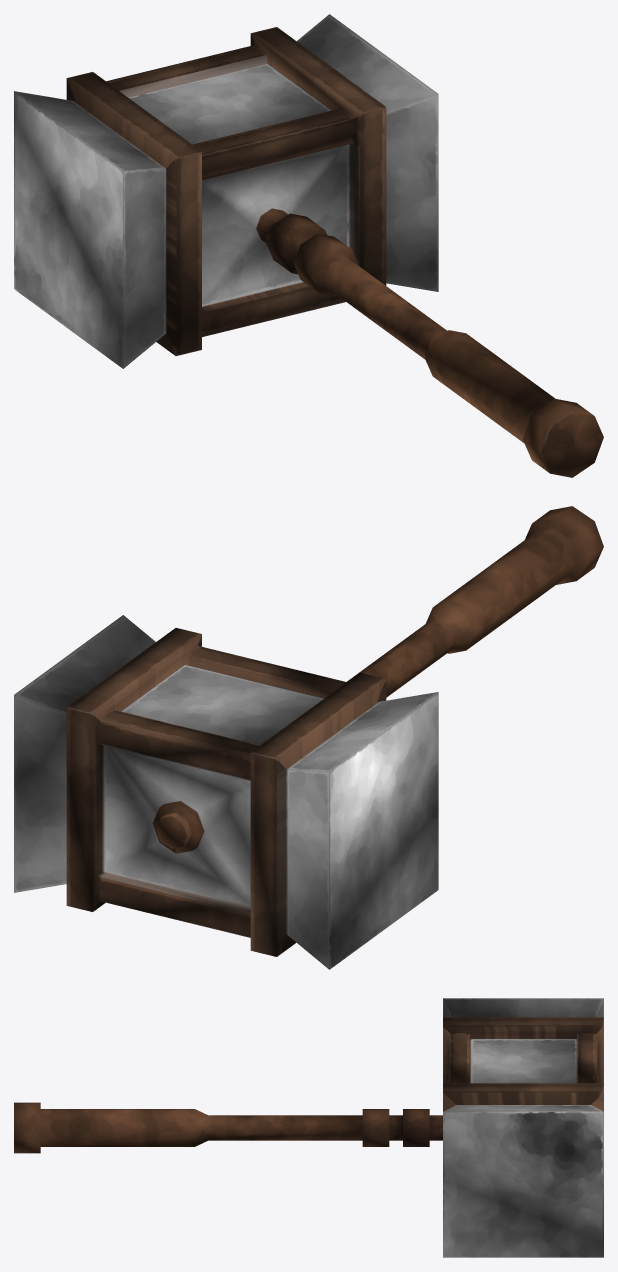
The model's file is Hammer.obj.
3 views of the same model, one above another, from view 1: azimuth 30°, elevation 25°; view 2: azimuth 150°, elevation 25°; view 3: azimuth 270°, elevation 25° (orthographic). The views are drawn at different scales.
Visible parts, largest first — view 1: Hammer; view 2: Hammer; view 3: Hammer.
Boxes of the visible parts, box(x1,y1,x2,y2) form: Hammer: box(14, 14, 603, 477); Hammer: box(14, 506, 603, 969); Hammer: box(14, 998, 603, 1257).
Bounding box in the file's own units: 0.9091 × 0.5455 × 2.
